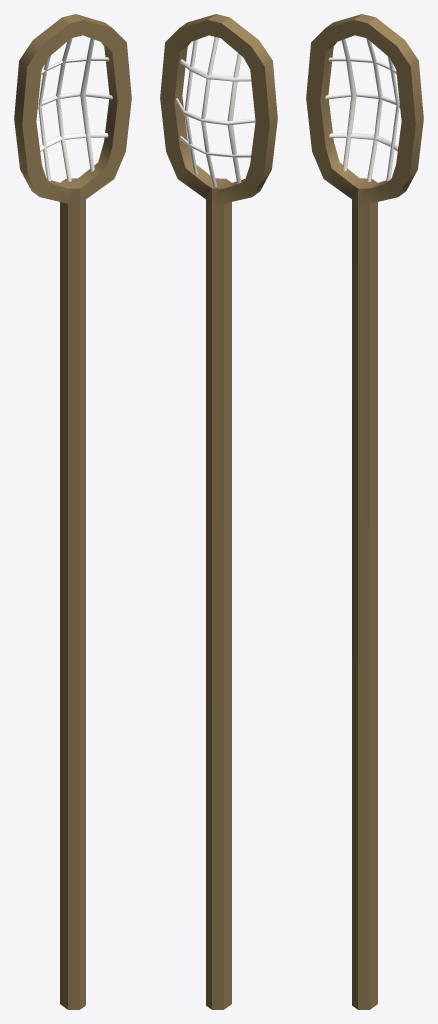
File: postLacrosseStick.gltf
3 renders of one model, left to right at view 1: azimuth 30°, elevation 25°; view 2: azimuth 150°, elevation 25°; view 3: azimuth 330°, elevation 25°, orthographic.
Visible parts, largest first — view 1: postLacrosseStick; view 2: postLacrosseStick; view 3: postLacrosseStick.
Part boxes in pixels (left/top/right/bottom): postLacrosseStick: left=14, top=14, right=131, bottom=1009; postLacrosseStick: left=160, top=14, right=277, bottom=1009; postLacrosseStick: left=306, top=14, right=423, bottom=1009.
Bounding box in the file's own units: 1.18 × 10.18 × 0.4438.
